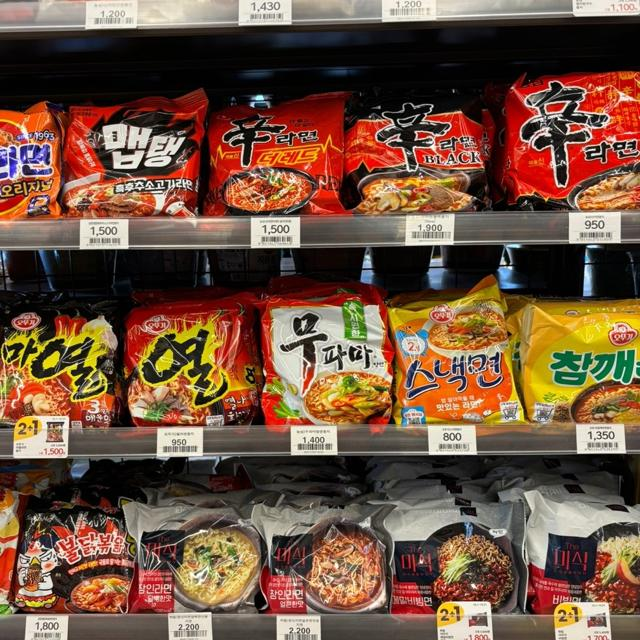product: (260, 291, 395, 427), (506, 77, 640, 212), (394, 290, 522, 425), (202, 97, 344, 218), (64, 104, 207, 223), (348, 97, 491, 212), (124, 303, 250, 431), (1, 303, 119, 428), (260, 511, 394, 620), (136, 507, 269, 616), (389, 507, 518, 619), (530, 302, 640, 424), (12, 509, 133, 613), (524, 510, 640, 616), (1, 108, 63, 212)
